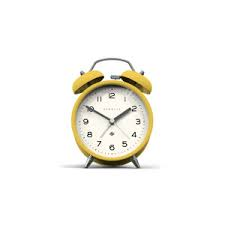alarm_clock: (70, 52, 155, 166)
